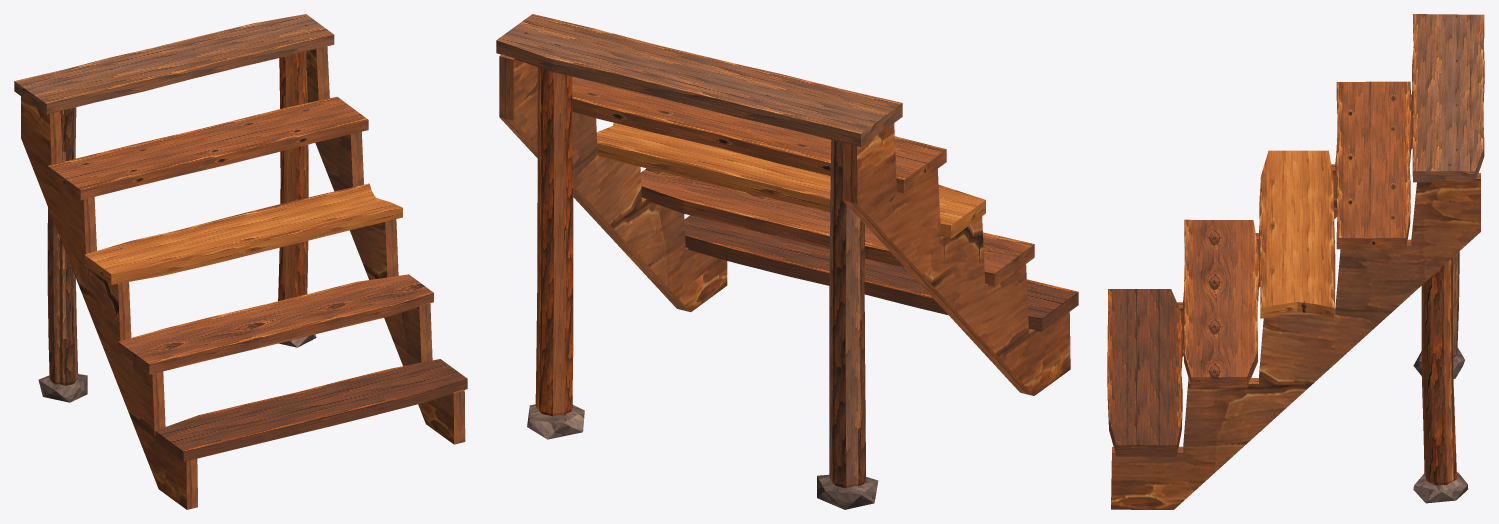
Rendered from stairs__plank_root.glb.
The picture shows the model from 3 angles, left to right: view 1: azimuth 30°, elevation 25°; view 2: azimuth 150°, elevation 25°; view 3: azimuth 270°, elevation 25°; orthographic projection. The views are drawn at different scales.
Visible parts, largest first — view 1: model; view 2: model; view 3: model.
Part boxes in pixels (bbox=[...]): model: bbox=[14, 14, 467, 509]; model: bbox=[496, 14, 1078, 509]; model: bbox=[1107, 14, 1484, 509].
Bounding box in the file's own units: 1.94 × 1.98 × 1.98.
14 materials, 14 textured.
